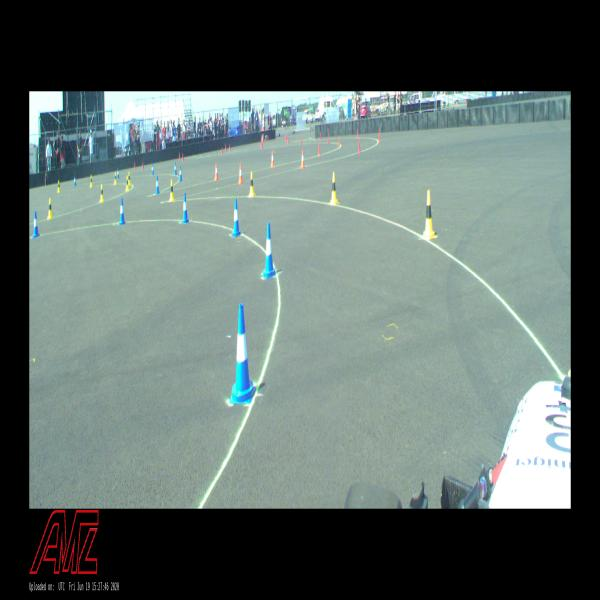blue_cone: (229, 304, 256, 404), (263, 223, 276, 279), (231, 198, 242, 238), (181, 192, 189, 223), (32, 211, 39, 238), (119, 198, 125, 224), (156, 175, 160, 194), (179, 166, 182, 181), (174, 162, 177, 175), (74, 175, 76, 186), (117, 168, 119, 178), (152, 163, 153, 175)
orange_cone: (238, 163, 243, 184), (214, 163, 219, 181), (300, 150, 304, 169), (270, 150, 274, 168)
yellow_cone: (424, 190, 438, 240), (330, 172, 339, 205), (248, 172, 255, 196), (47, 198, 53, 218), (169, 179, 174, 201), (100, 184, 104, 201), (126, 176, 130, 191), (128, 172, 131, 185), (57, 180, 60, 192), (114, 172, 117, 184), (90, 175, 92, 186)
